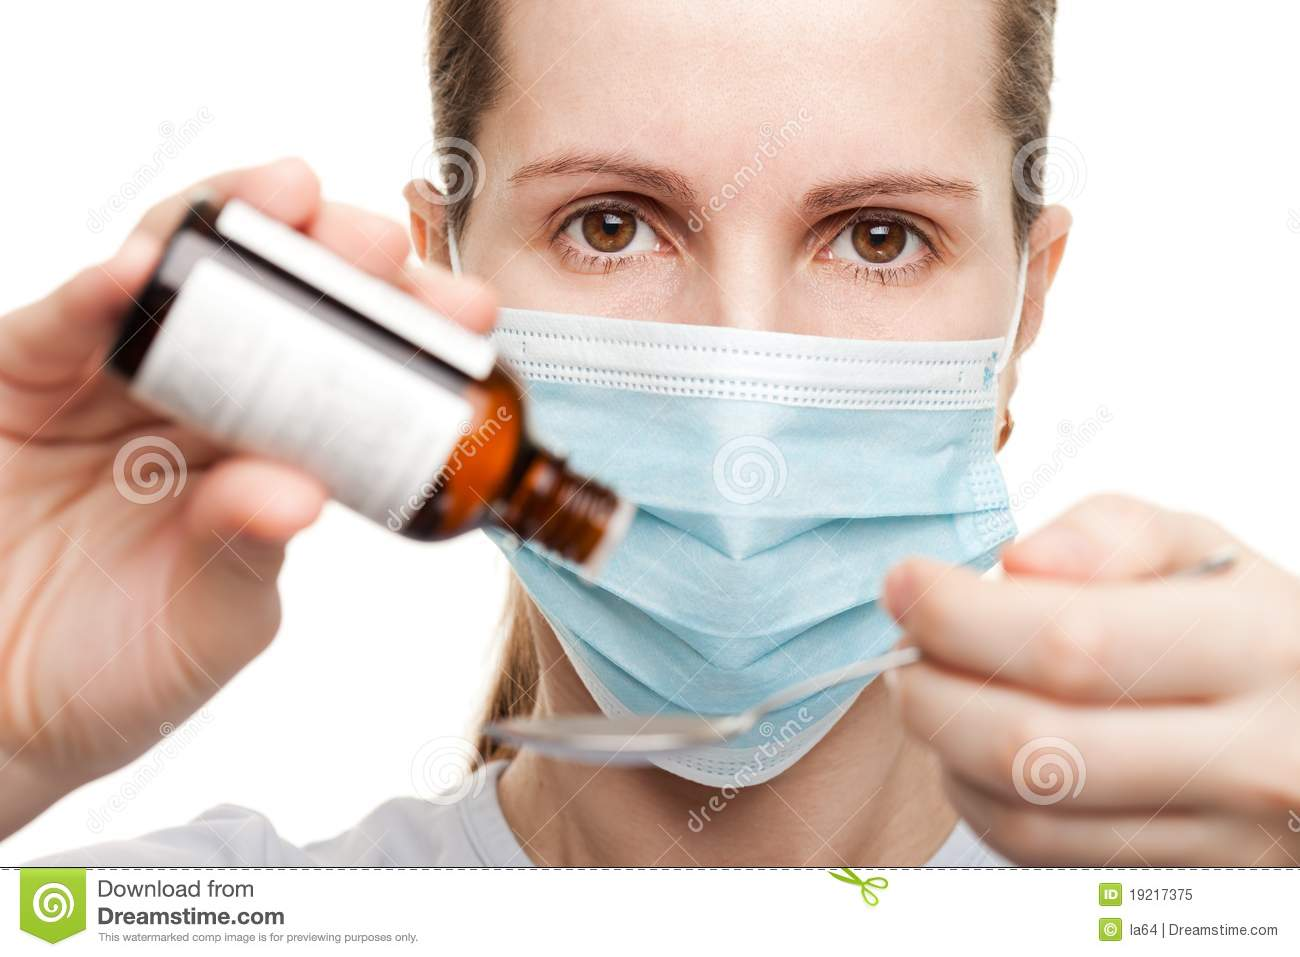mask: (445, 286, 1035, 783)
